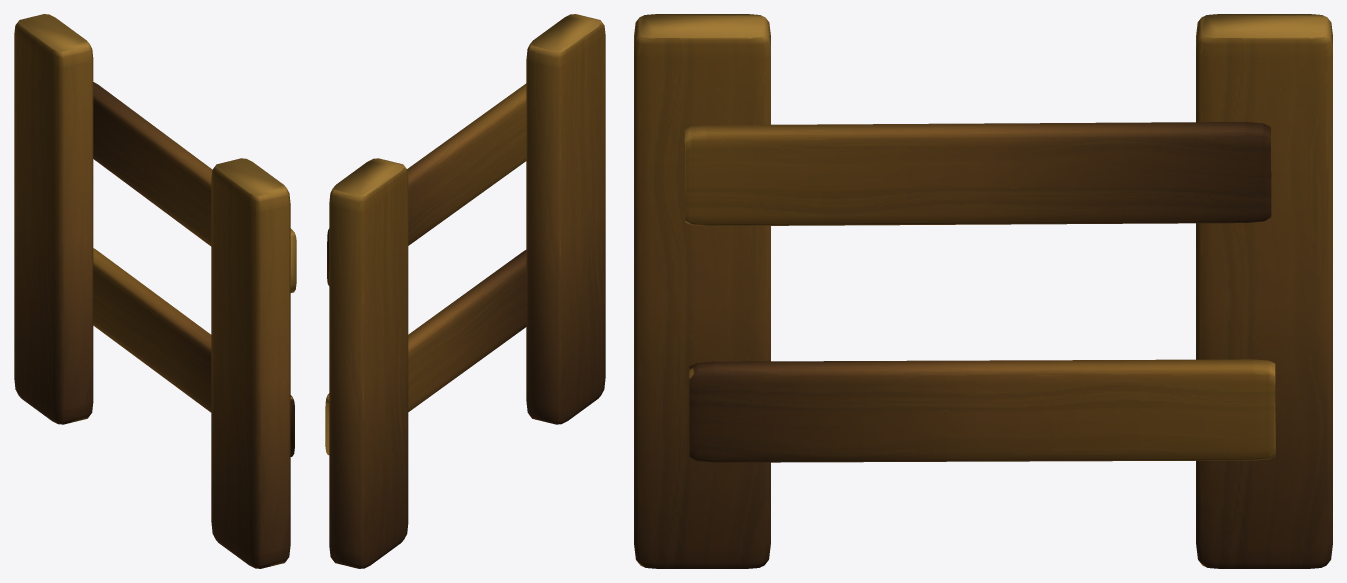
File: Fence_End.glb
The picture shows the model from 3 angles, left to right: view 1: azimuth 30°, elevation 25°; view 2: azimuth 150°, elevation 25°; view 3: azimuth 270°, elevation 25°; orthographic projection. The views are drawn at different scales.
Parts seen in each view (by area): view 1: PLank v1.001, PLank v1, PLank v1.002, PLank v1.003; view 2: PLank v1.001, PLank v1, PLank v1.003, PLank v1.002; view 3: PLank v1.001, PLank v1.003, PLank v1.002, PLank v1.
Boxes of the visible parts, x1,y1,x2,y2 form: PLank v1.001: [14, 14, 93, 424]; PLank v1: [211, 158, 290, 568]; PLank v1.002: [93, 82, 296, 292]; PLank v1.003: [93, 248, 294, 456]; PLank v1.001: [329, 158, 408, 568]; PLank v1: [526, 14, 605, 424]; PLank v1.003: [325, 250, 526, 455]; PLank v1.002: [327, 83, 526, 285]; PLank v1.001: [1196, 14, 1332, 568]; PLank v1.003: [689, 359, 1275, 462]; PLank v1.002: [684, 122, 1271, 226]; PLank v1: [634, 14, 770, 568].
Bounding box in the file's own units: 0.1972 × 1.19 × 1.42.
1 material, 1 textured.
